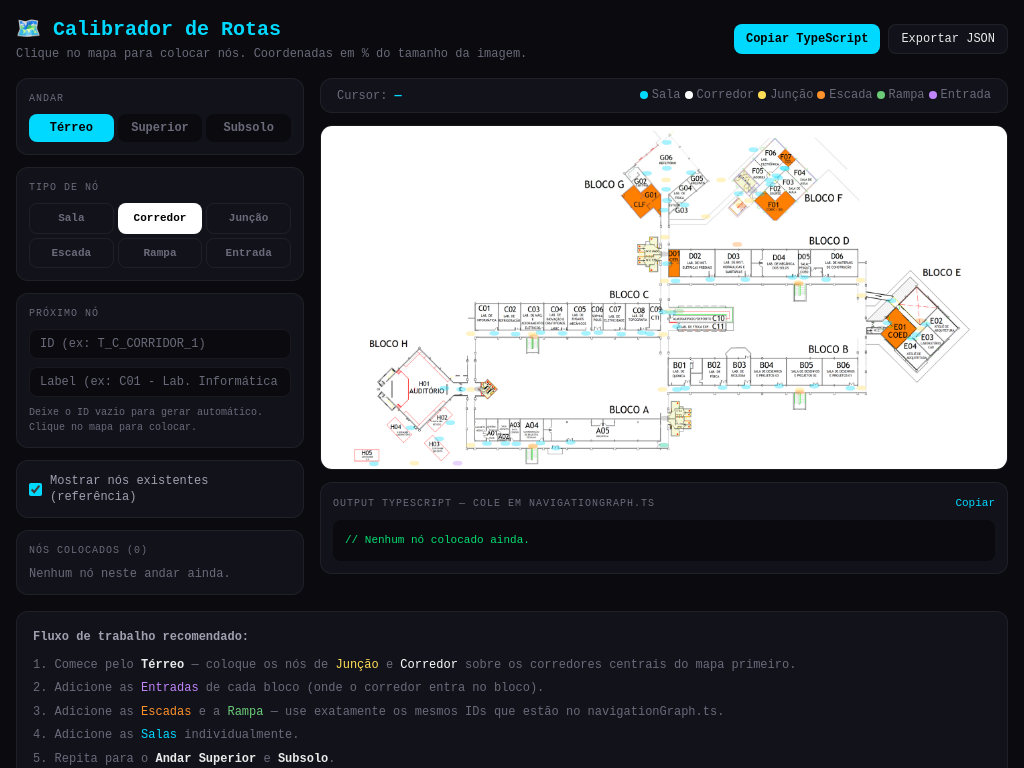
Test: Página CalibrePage (/calibrar) › Deve trocar de andar ao clicar nos botões de andar
Click the button "Superior": (160, 128) [118, 114, 202, 142]
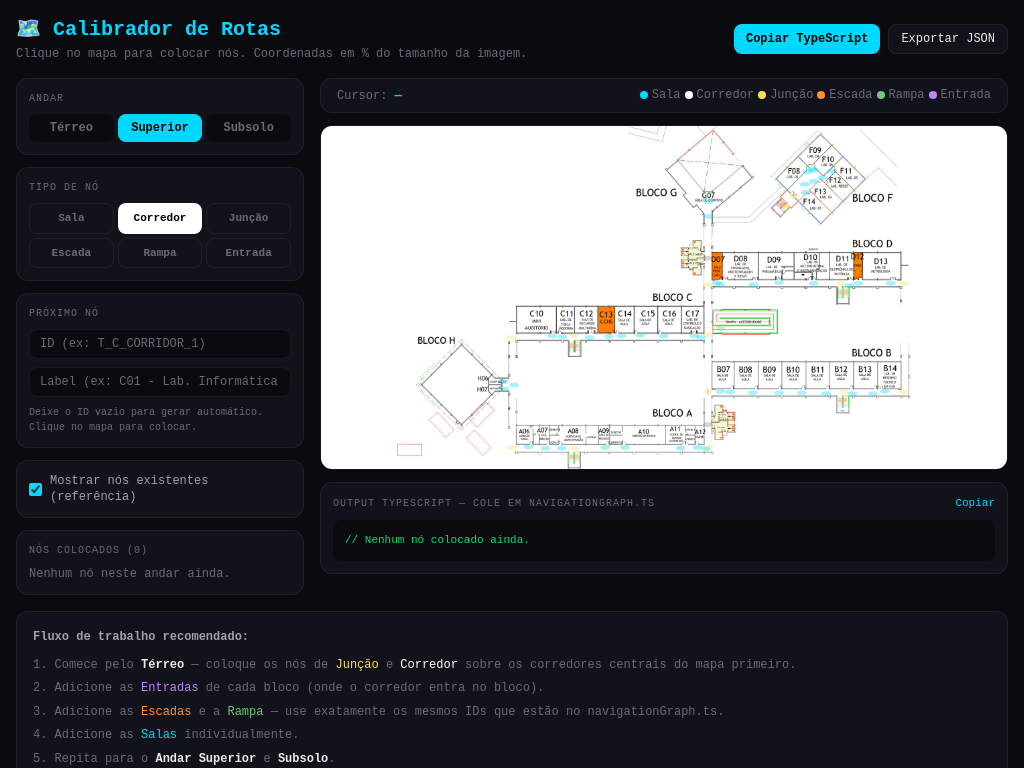
Now the picture with alt text "mapa superior" is shown, box [321, 126, 1007, 469]
